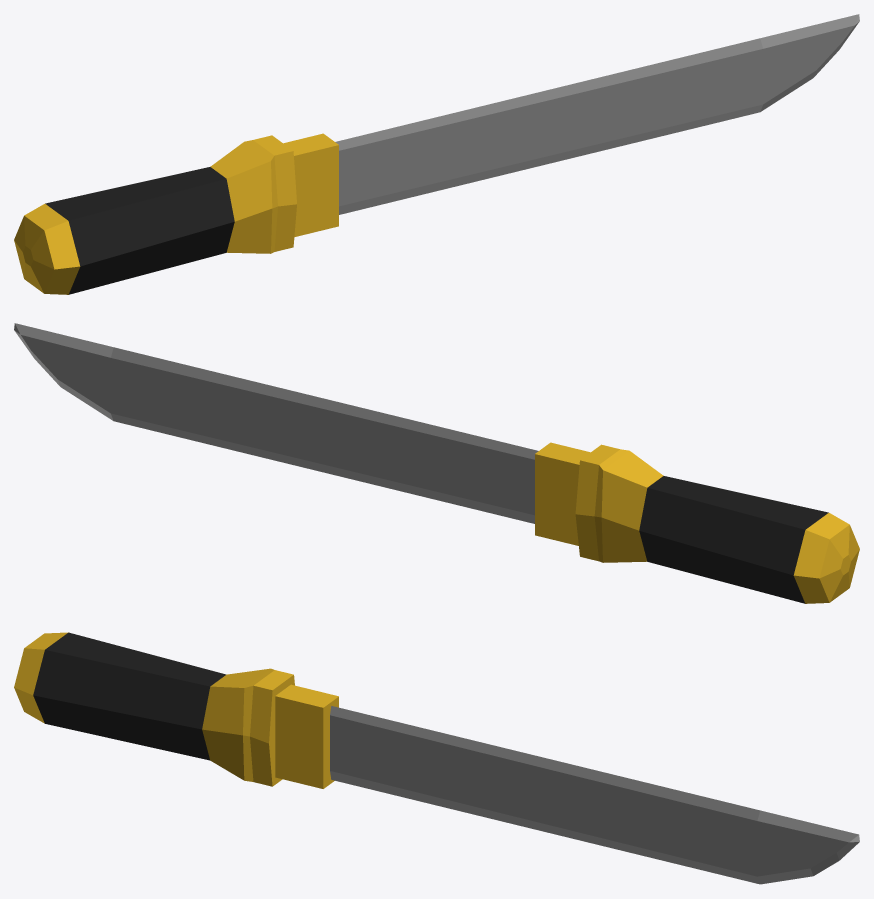
File: Knife.fbx
The picture shows the model from 3 angles, top to bottom: view 1: azimuth 30°, elevation 25°; view 2: azimuth 150°, elevation 25°; view 3: azimuth 330°, elevation 25°; orthographic projection.
Visible parts, largest first — view 1: TANTO; view 2: TANTO; view 3: TANTO.
Boxes of the visible parts, left/top/right/bottom form: TANTO: left=14, top=14, right=859, bottom=294; TANTO: left=14, top=323, right=859, bottom=603; TANTO: left=14, top=632, right=859, bottom=884.
Size of the model in its own units: 43.42 by 4.81 by 4.27.
